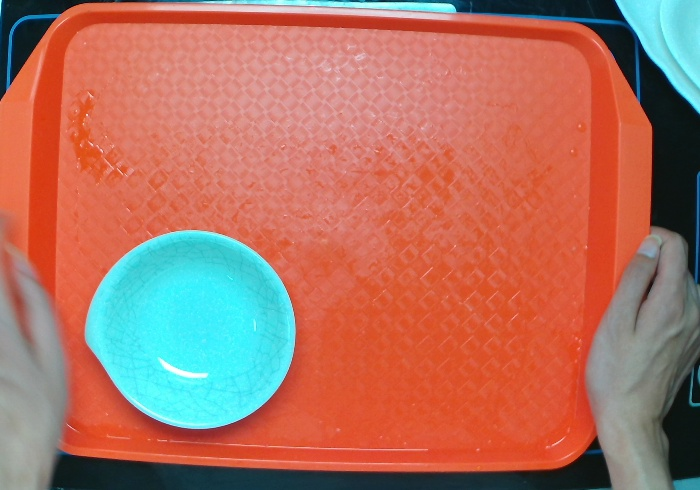RJxy-Xiao_Jiao_Yuan_Wan: (83, 220, 302, 436)
